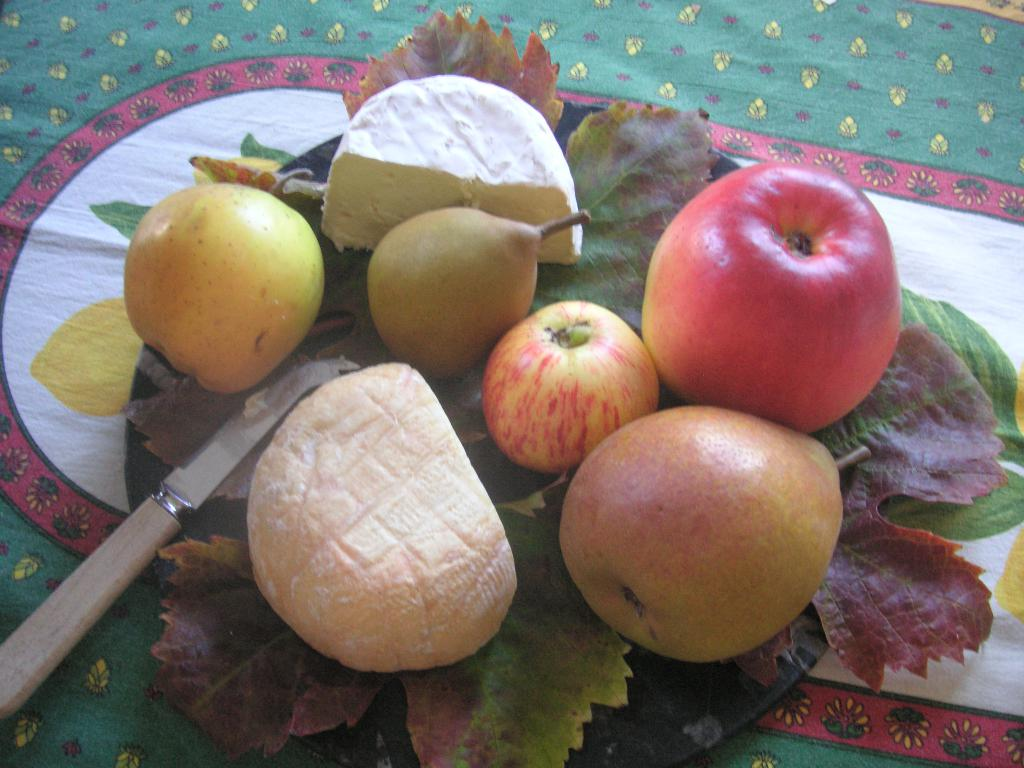Apple: (629, 167, 904, 447), (120, 179, 324, 391), (483, 300, 663, 471)
